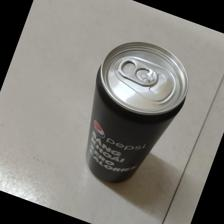Pepsi: (84, 37, 188, 185)
